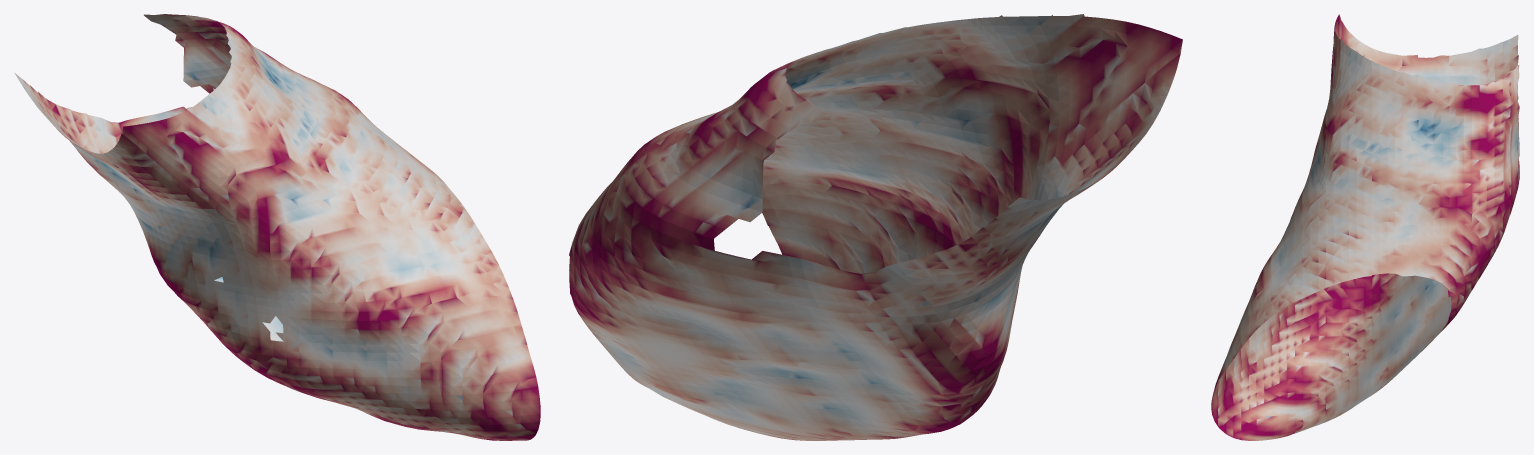
Rendered from crop1036_curvature.glb.
3 renders of one model, left to right at view 1: azimuth 30°, elevation 25°; view 2: azimuth 150°, elevation 25°; view 3: azimuth 270°, elevation 25°, orthographic. The views are drawn at different scales.
Visible parts, largest first — view 1: world; view 2: world; view 3: world.
Part boxes in pixels (bbox=[...]): world: bbox=[14, 14, 540, 440]; world: bbox=[569, 14, 1182, 440]; world: bbox=[1211, 14, 1519, 440].
Bounding box in the file's own units: 679 × 674 × 643.
